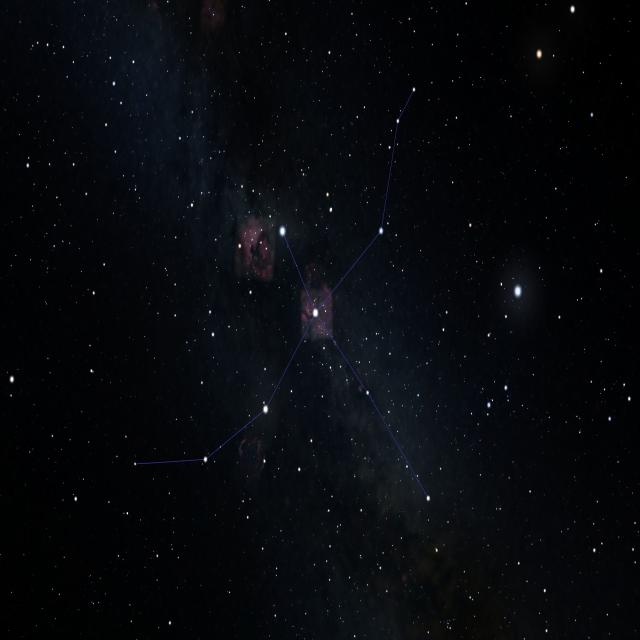Cygnus: (124, 77, 438, 519)
